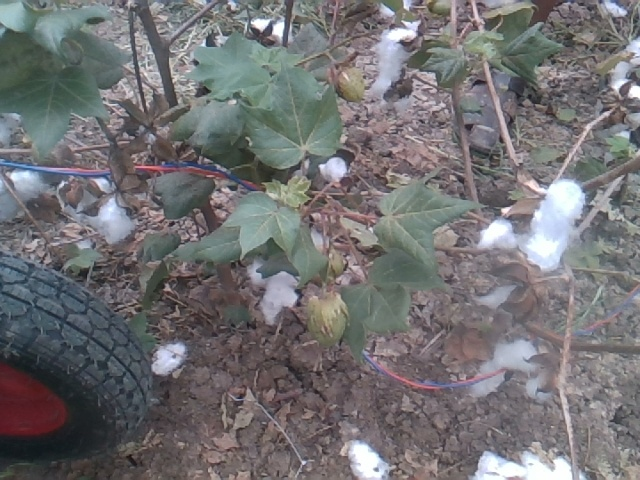cotton: (477, 169, 584, 270), (468, 331, 557, 410), (51, 171, 137, 244), (359, 3, 421, 97), (466, 442, 588, 480), (1, 164, 55, 229), (248, 259, 296, 319), (341, 436, 388, 480), (609, 36, 640, 100), (150, 342, 190, 376), (319, 161, 353, 181)
